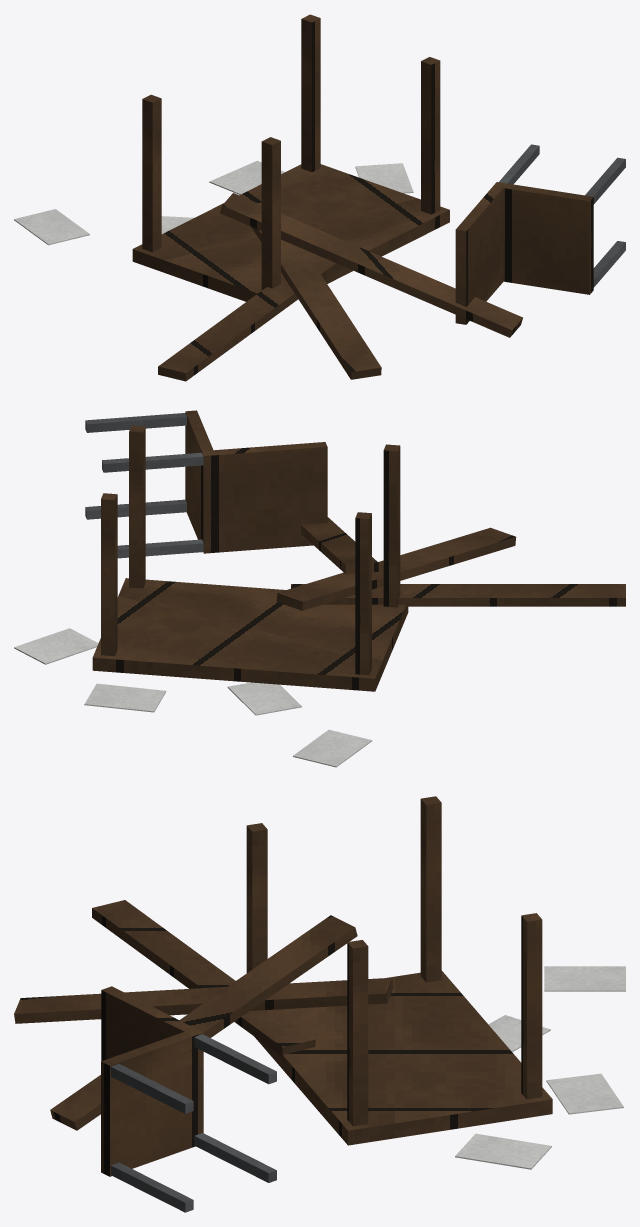
Rendered from int_debris.glb.
The picture shows the model from 3 angles, top to bottom: view 1: azimuth 30°, elevation 25°; view 2: azimuth 150°, elevation 25°; view 3: azimuth 270°, elevation 25°; orthographic projection. The views are drawn at different scales.
Parts seen in each view (by area): view 1: detail, debris-col; view 2: detail, debris-col; view 3: detail, debris-col.
Boxes of the visible parts, left/top/right/bottom form: detail: left=14, top=144, right=625, bottom=381; debris-col: left=132, top=14, right=449, bottom=301; detail: left=14, top=410, right=625, bottom=767; debris-col: left=92, top=425, right=408, bottom=691; detail: left=14, top=900, right=625, bottom=1212; debris-col: left=246, top=796, right=552, bottom=1145.
Size of the model in its own units: 2.48 by 0.8222 by 2.25.
Materials: 3 (3 with a texture image).
